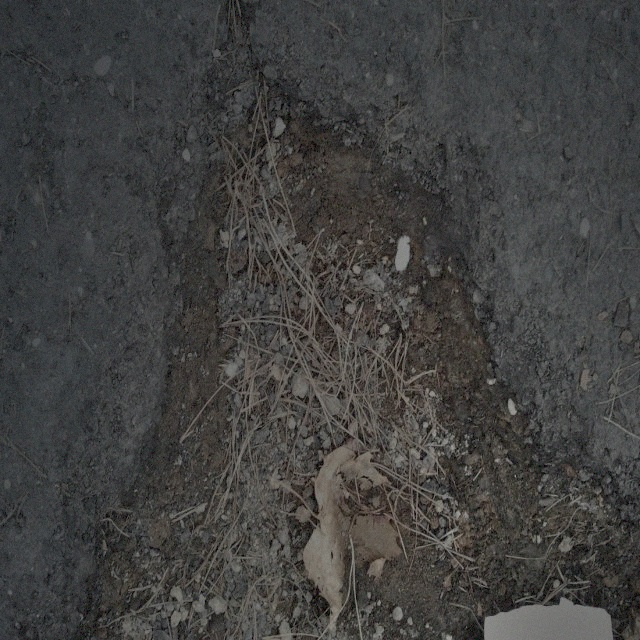pothole: (123, 56, 547, 510)
